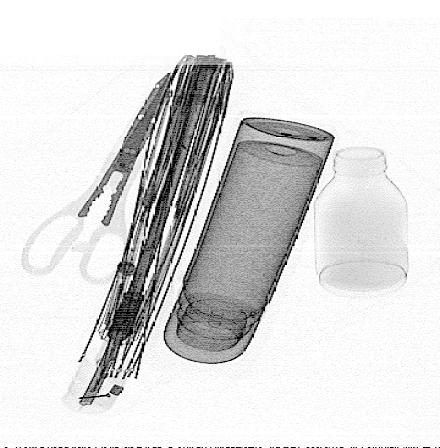Scissors: (19, 70, 173, 287)
